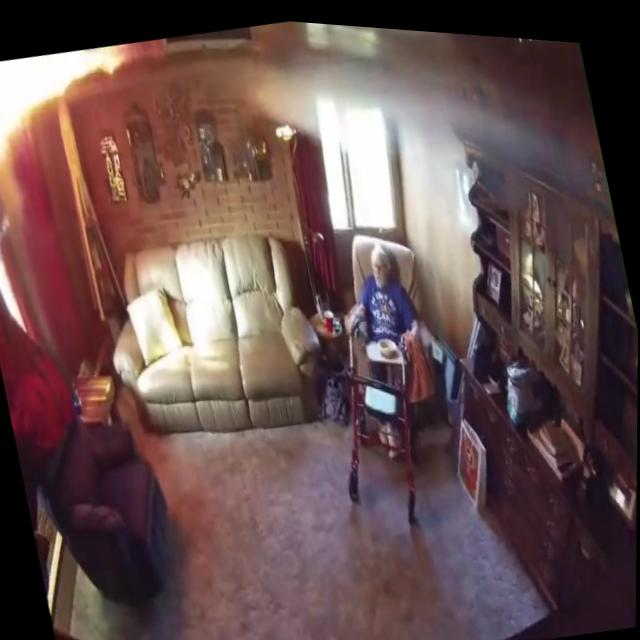fire: (0, 36, 137, 159)
